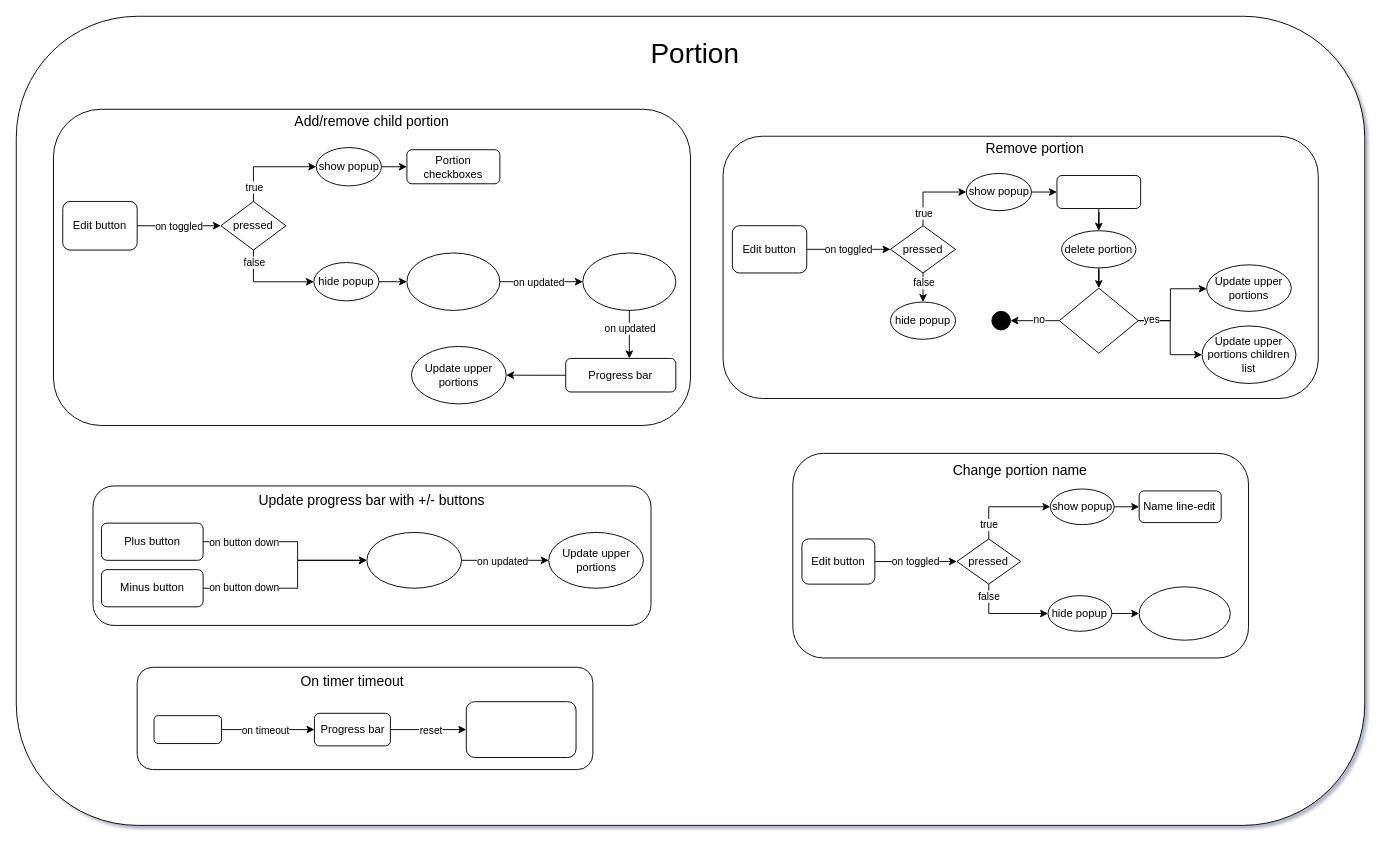
Image size: 1387x847. Some labels were removed from this diagram. The centre of each missing label's shape, as x and y in pixels:
"cascade delete?" goes at pixel 1098 320.
"Progress bar: children portion" goes at pixel 520 729.
"Remove button" goes at pixel 1098 192.
"Timer" goes at pixel 187 729.
"Update children portion list" goes at pixel 453 281.
"update portion name label" goes at pixel 1184 613.
"Update progress bar" goes at pixel 629 281.
"Update progress label" goes at pixel 414 559.
